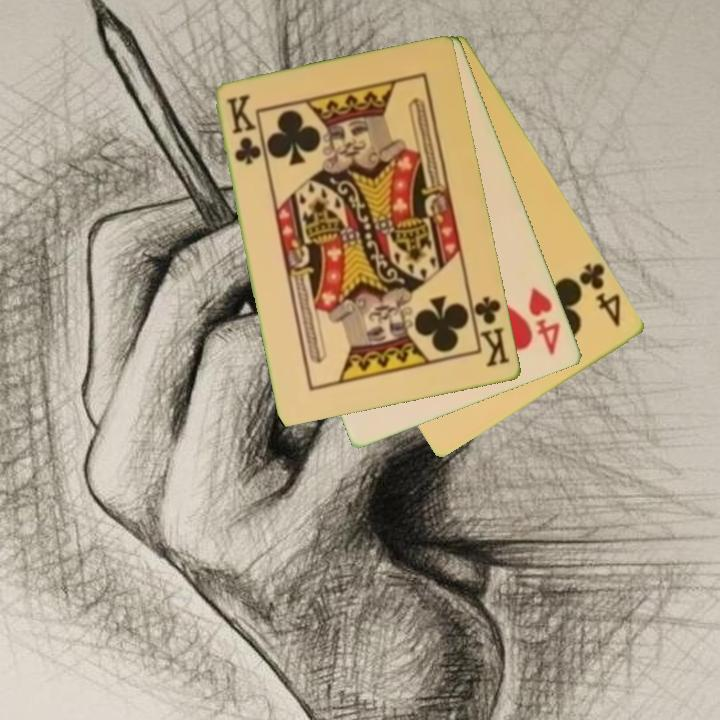4c: (572, 259, 625, 330)
4h: (525, 284, 564, 358)
Kc: (467, 292, 513, 370), (223, 92, 264, 168)
